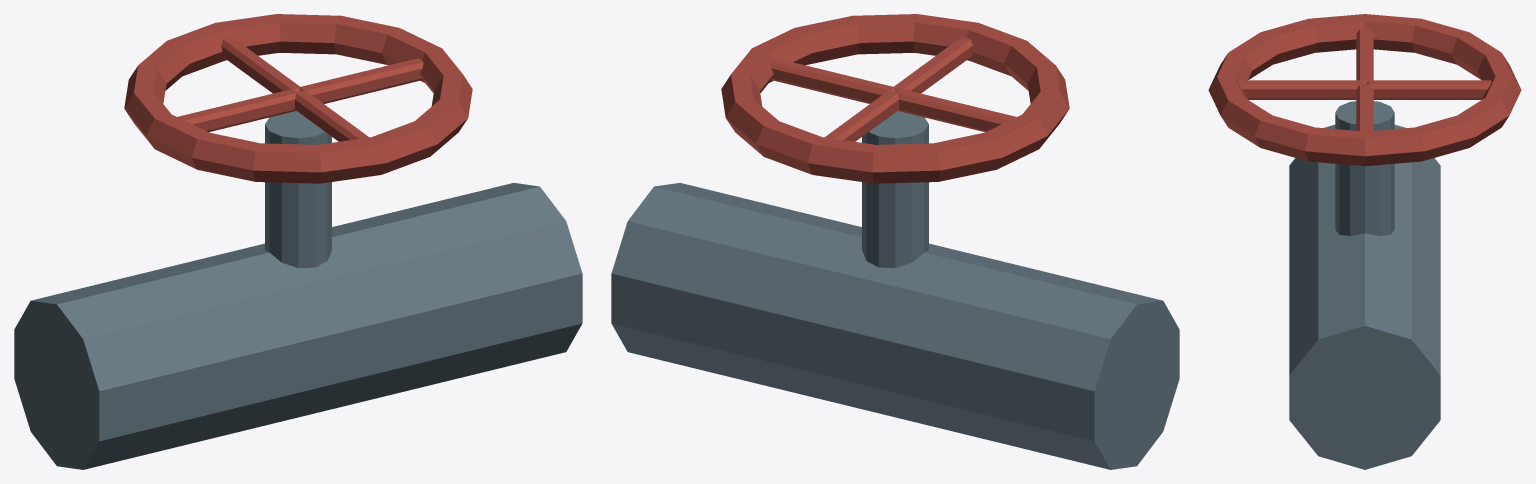
File: objects-valve.lod0.glb
3 views of the same model, side by side, from view 1: azimuth 30°, elevation 25°; view 2: azimuth 150°, elevation 25°; view 3: azimuth 270°, elevation 25° (orthographic). The views are drawn at different scales.
Visible parts, largest first — view 1: objects-valve__body; view 2: objects-valve__body; view 3: objects-valve__body.
Part boxes in pixels (x1,y1,x2,y2): objects-valve__body: (14,14,582,469); objects-valve__body: (611,14,1179,469); objects-valve__body: (1208,14,1521,469).
Bounding box in the file's own units: 1 × 0.6403 × 0.63.
